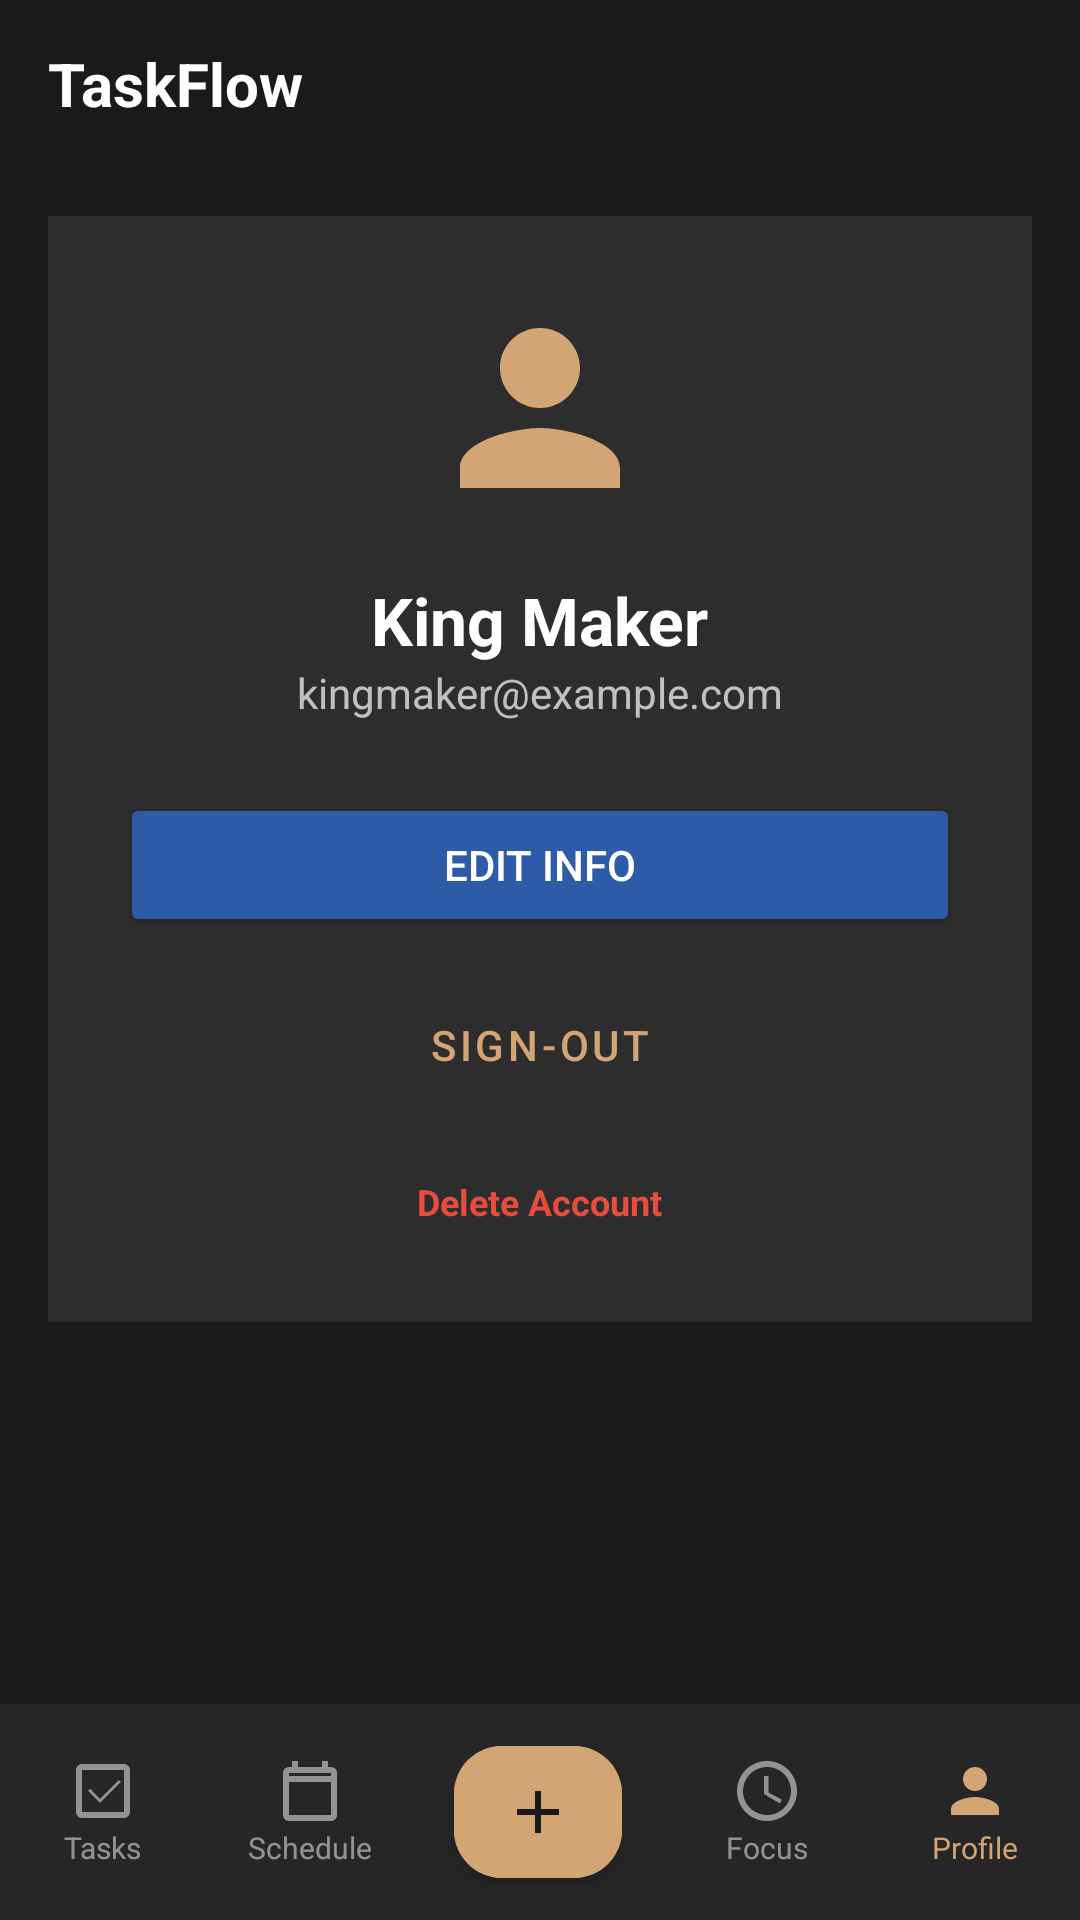

Named icons in this screenshot (1080×1920) and their bounding boxes, Rect(x1, y1, x2, y2):
add task: Rect(454, 1746, 622, 1878)
